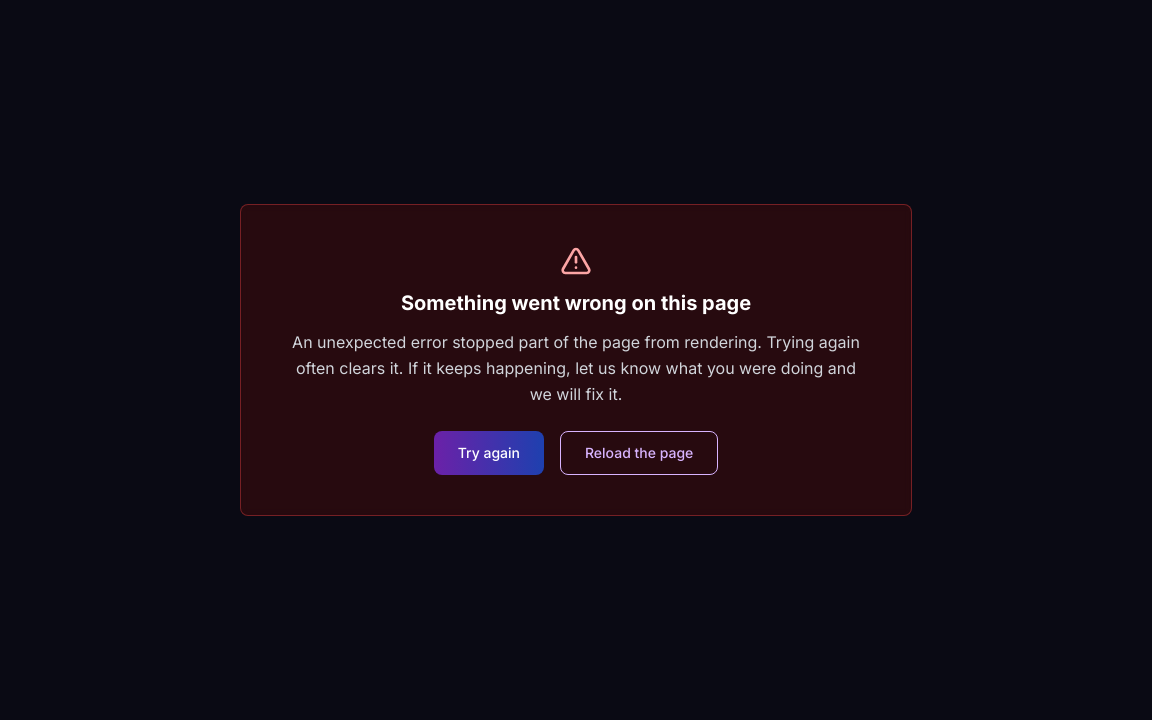
Test case: ErrorBoundary › a render error is contained, explained and recoverable
Expected: the message shows "Something went wrong on this page", [401,291,751,315]
Expected: the heading reads "Something went wrong on this page", [401,291,751,315]
What coordinates should you click on to do the following:
click the button "Try again"
I would click on:
 (489, 453)
Its box is [434,431,544,475].
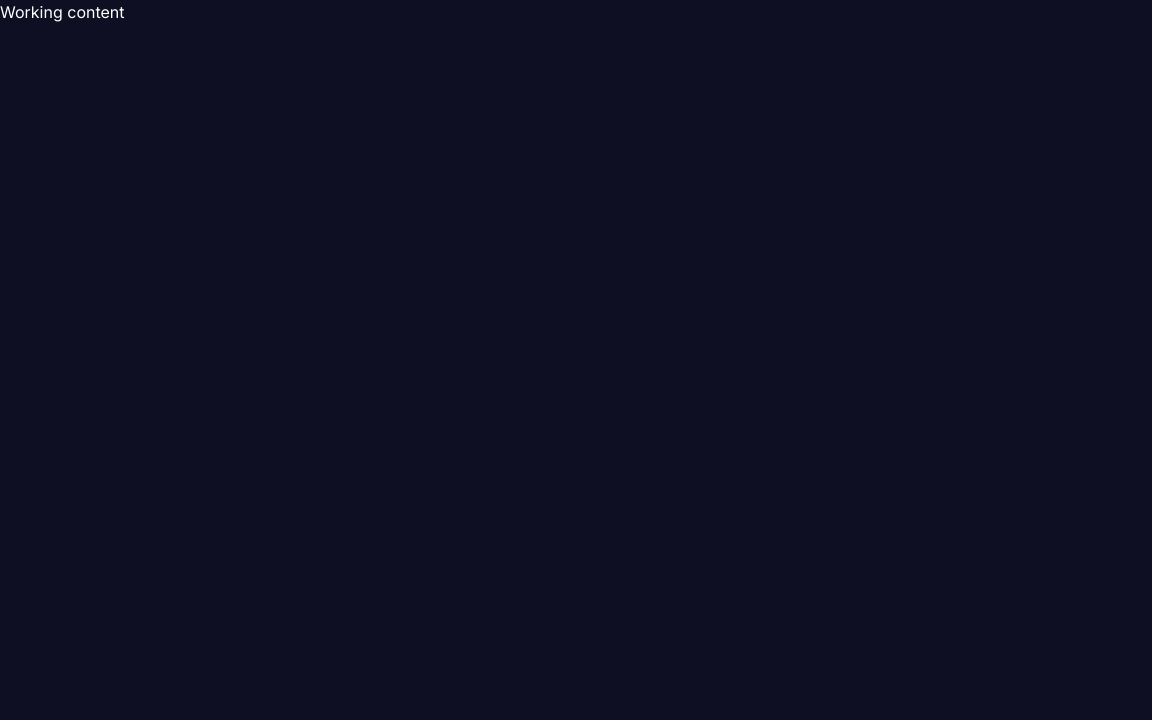
Expected: the text "Working content" is shown, [0,2,124,22]
Expected: the message is gone
